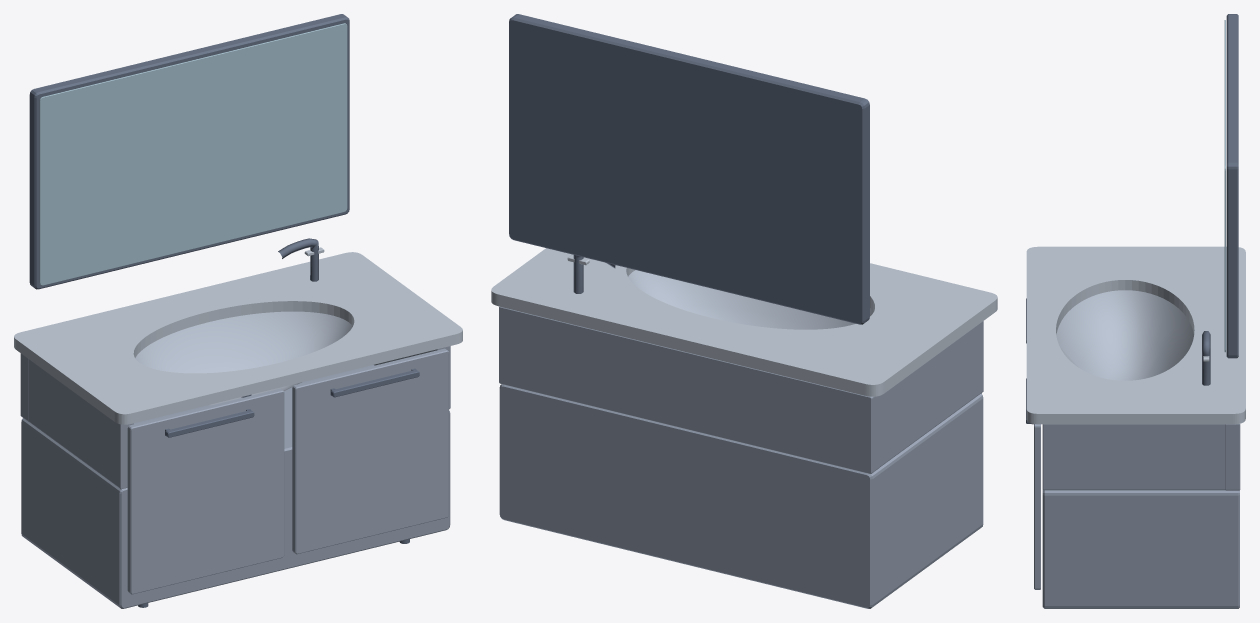
The model's file is 台盆-lite.glb.
3 renders of one model, left to right at view 1: azimuth 30°, elevation 25°; view 2: azimuth 150°, elevation 25°; view 3: azimuth 270°, elevation 25°, orthographic. The views are drawn at different scales.
Parts seen in each view (by area): view 1: glass, accent, light, body, dark, soft; view 2: body, dark, light, soft; view 3: body, light, soft, dark, accent, glass.
Boxes of the visible parts, bbox=[...] form: glass: bbox=[39, 23, 347, 285]; accent: bbox=[127, 348, 448, 594]; light: bbox=[14, 247, 462, 424]; body: bbox=[20, 346, 450, 608]; dark: bbox=[29, 14, 419, 607]; soft: bbox=[135, 311, 352, 405]; body: bbox=[499, 306, 983, 608]; dark: bbox=[509, 14, 869, 324]; light: bbox=[491, 248, 997, 396]; soft: bbox=[628, 270, 873, 329]; body: bbox=[1042, 423, 1240, 608]; light: bbox=[1026, 246, 1245, 424]; soft: bbox=[1056, 290, 1193, 380]; dark: bbox=[1026, 14, 1238, 424]; accent: bbox=[1034, 424, 1040, 589]; glass: bbox=[1224, 20, 1225, 352].
Size of the model in its own units: 0.9 by 1.14 by 0.5.
